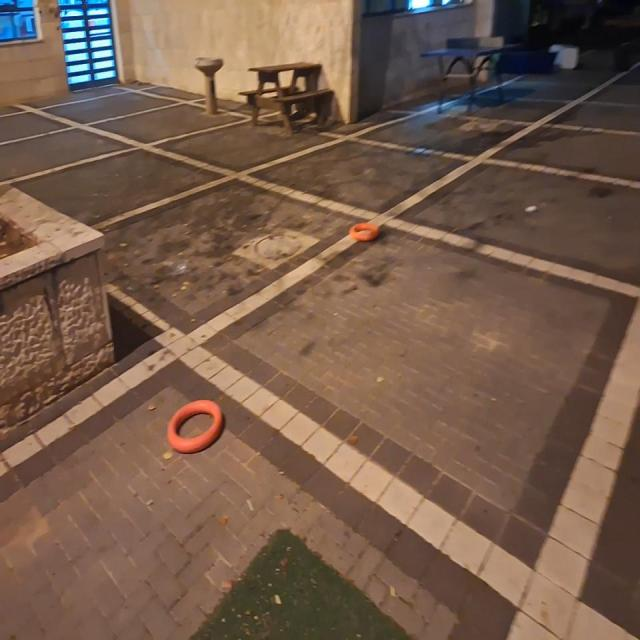note: (167, 399, 225, 453), (351, 223, 377, 241)
